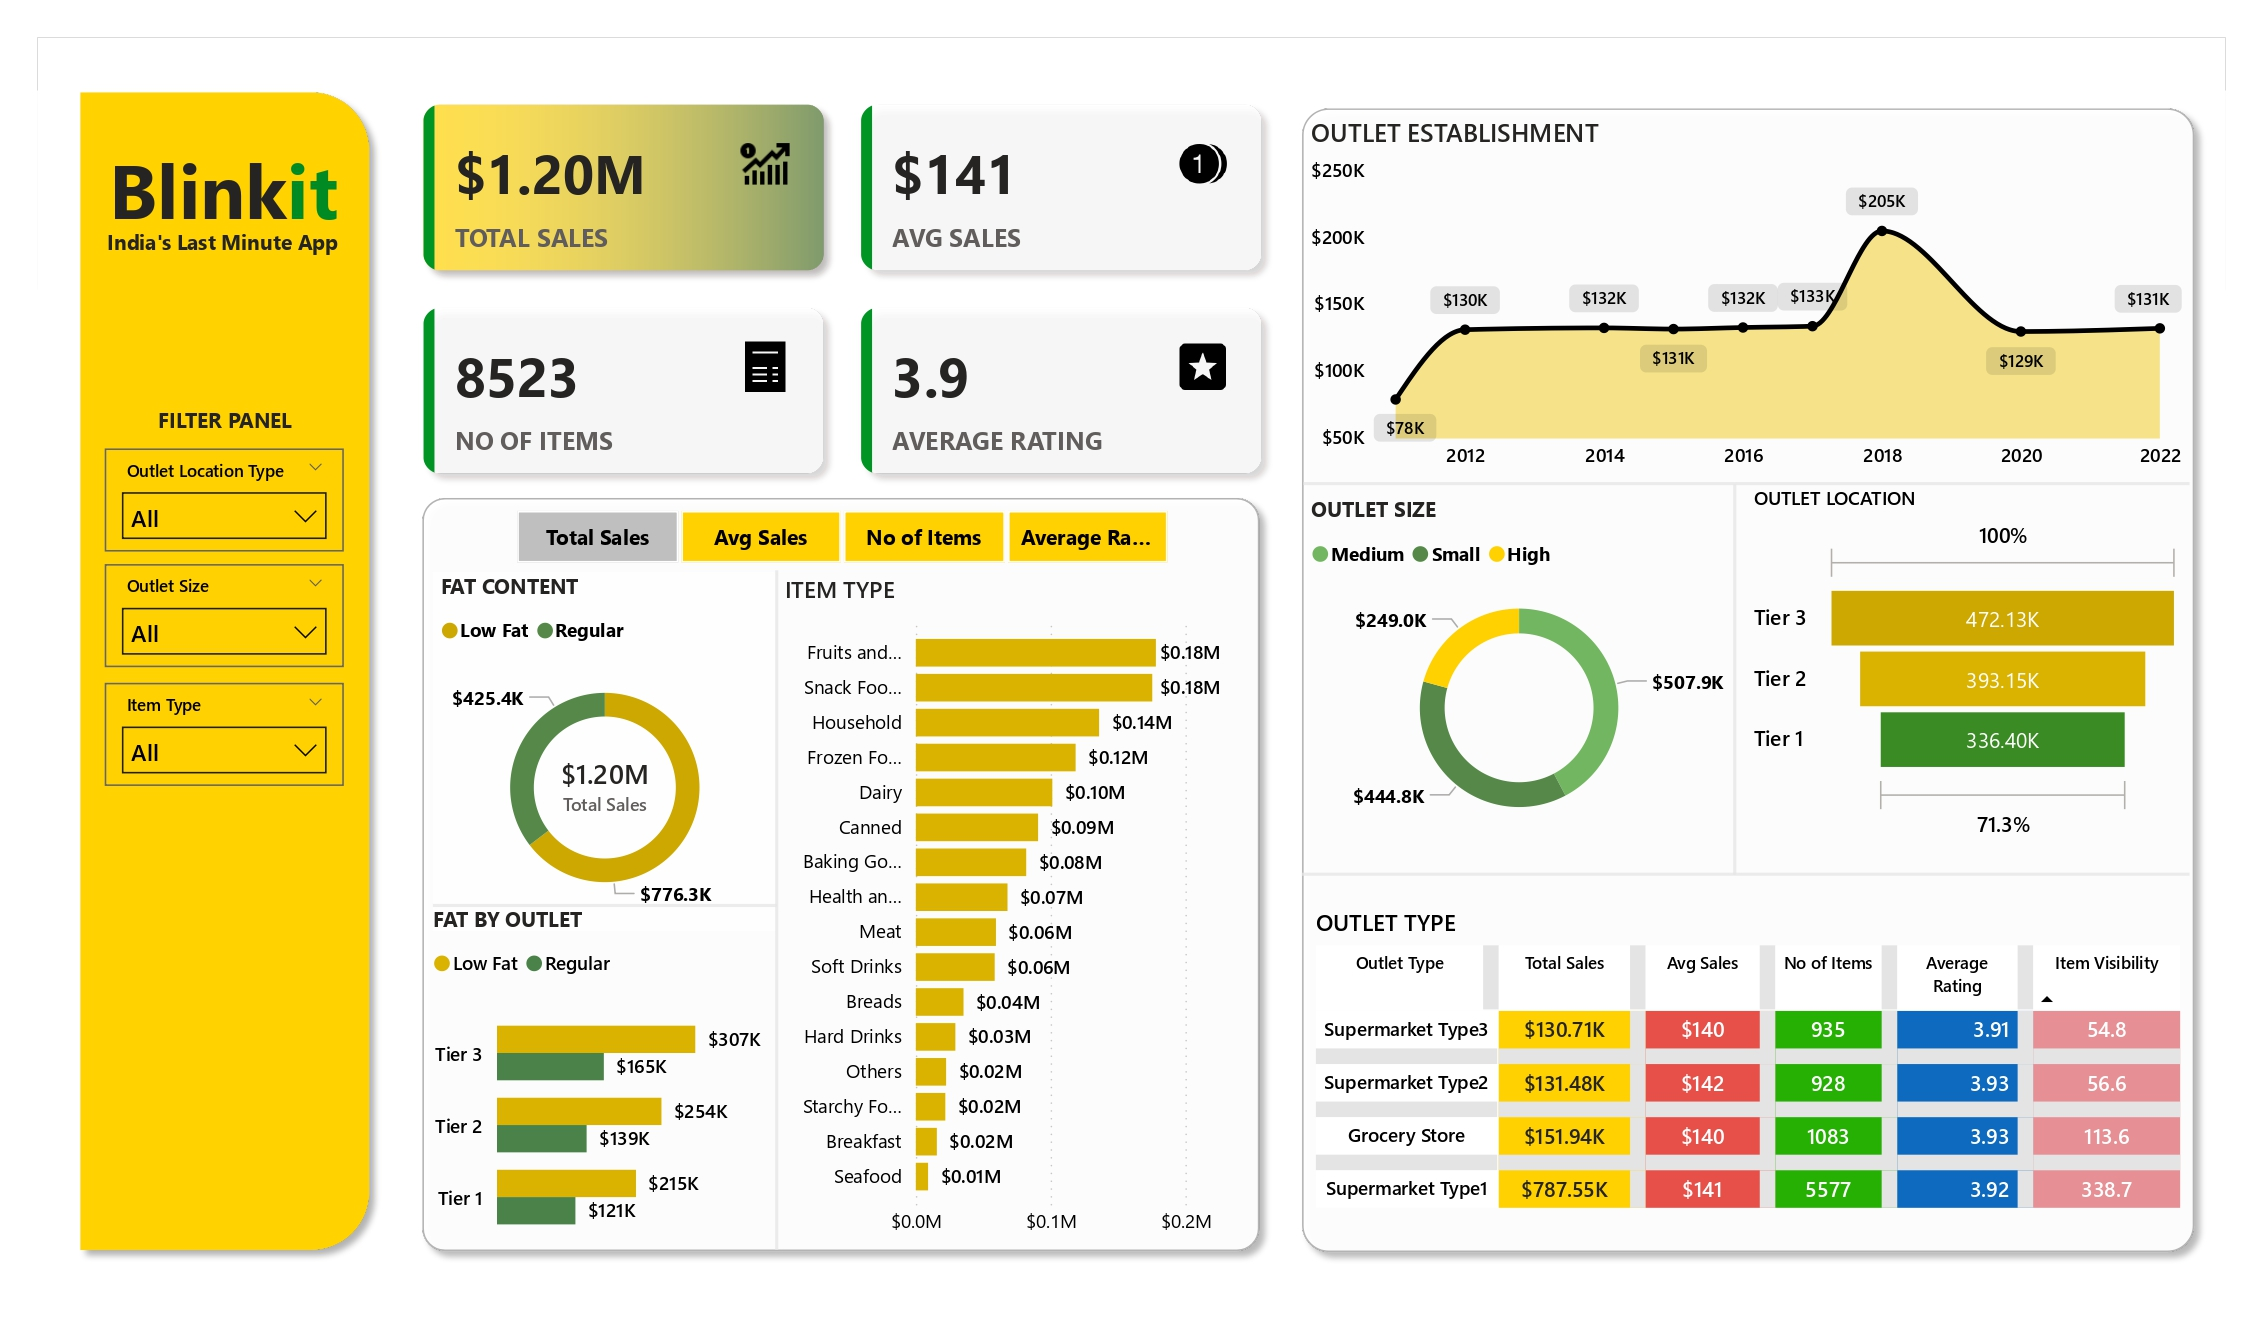

This screenshot's page, from the dashboard's own definition file:
{"tool":"powerbi","page":{"name":"Page 1","canvas":[1400,800],"ordinal":0},"visuals":[{"type":"shape","box":[18,25.6,203.1,759.6],"z":0},{"type":"textbox","box":[28.5,58.5,180.1,85.5],"z":1000},{"type":"textbox","box":[36,117.1,165.1,87.1],"z":2000},{"type":"cardVisual","fields":{"Data":["BlinkIT Grocery Data.Total Sales","BlinkIT Grocery Data.Avg Sales","BlinkIT Grocery Data.No of Items","BlinkIT Grocery Data.Average Rating"]},"box":[229.6,25.5,570.3,270.2],"z":3000},{"type":"shape","box":[237.1,285.7,554.3,500],"z":4000},{"type":"donutChart","title":"FAT CONTENT","fields":{"Y":["BlinkIT Grocery Data.Total Sales"],"Category":["BlinkIT Grocery Data.Item Fat Content"]},"box":[253.3,341.7,220,230],"z":5000},{"type":"slicer","fields":{"Values":["Metrics.Metrics"]},"box":[281.4,295.7,465.7,47.1],"z":6000},{"type":"cardVisual","fields":{"Data":["BlinkIT Grocery Data.Total Sales"]},"box":[244.3,380,238.6,196.4],"z":7000},{"type":"clusteredBarChart","title":"FAT BY OUTLET","fields":{"Y":["BlinkIT Grocery Data.Total Sales"],"Category":["BlinkIT Grocery Data.Outlet Location Type"],"Series":["BlinkIT Grocery Data.Item Fat Content"]},"box":[248.3,555,230,230],"z":8000},{"type":"shape","box":[252.9,530,220,51.4],"z":9000},{"type":"shape","box":[362.9,341.4,220,434.3],"z":10000},{"type":"barChart","title":"ITEM TYPE","fields":{"Y":["BlinkIT Grocery Data.Total Sales"],"Category":["BlinkIT Grocery Data.Item Type"]},"box":[472.9,342.9,305.7,432.9],"z":11000},{"type":"shape","box":[800,35.7,588.6,750],"z":12000},{"type":"lineChart","title":"OUTLET ESTABLISHMENT","fields":{"Y":["BlinkIT Grocery Data.Total Sales"],"Category":["BlinkIT Grocery Data.Outlet Establishment Year"]},"box":[810,50,567.1,235.7],"z":13000},{"type":"shape","box":[810,260,567.1,51.4],"z":14000},{"type":"donutChart","title":"OUTLET SIZE","fields":{"Y":["BlinkIT Grocery Data.Total Sales"],"Category":["BlinkIT Grocery Data.Outlet Size"]},"box":[810,292.9,275.7,225.7],"z":15000},{"type":"shape","box":[995.7,285.7,180,250],"z":16000},{"type":"funnel","title":"OUTLET LOCATION","fields":{"Y":["Sum(BlinkIT Grocery Data.Sales)"],"Category":["BlinkIT Grocery Data.Outlet Location Type"]},"box":[1092.9,285.7,284.3,232.9],"z":17000},{"type":"shape","box":[808.6,510,568.6,51.4],"z":18000},{"type":"pivotTable","title":"OUTLET TYPE","fields":{"Rows":["BlinkIT Grocery Data.Outlet Type"],"Values":["BlinkIT Grocery Data.Total Sales","BlinkIT Grocery Data.Avg Sales","BlinkIT Grocery Data.No of Items","BlinkIT Grocery Data.Average Rating","Sum(BlinkIT Grocery Data.Item Visibility)"]},"box":[812.9,555.7,564.3,205.7],"z":19000},{"type":"slicer","fields":{"Values":["BlinkIT Grocery Data.Outlet Location Type"]},"box":[42.9,262.9,152.9,65.7],"z":20000},{"type":"slicer","fields":{"Values":["BlinkIT Grocery Data.Outlet Size"]},"box":[42.9,337.1,152.9,65.7],"z":21000},{"type":"slicer","fields":{"Values":["BlinkIT Grocery Data.Item Type"]},"box":[42.9,412.9,152.9,65.7],"z":22000},{"type":"textbox","box":[28.6,231.4,182.9,31.4],"z":23000}]}

Visuals, with their boxes in screenshot pixels (x1, y1, x2, y2):
shape: bbox(66, 78, 383, 1264)
textbox: bbox(82, 129, 364, 262)
textbox: bbox(94, 220, 352, 357)
cardVisual - BlinkIT Grocery Data.Total Sales x BlinkIT Grocery Data.Avg Sales: bbox(396, 77, 1288, 500)
shape: bbox(408, 484, 1274, 1265)
"FAT CONTENT" donutChart: bbox(433, 571, 777, 931)
slicer - Metrics.Metrics: bbox(477, 500, 1205, 573)
cardVisual - BlinkIT Grocery Data.Total Sales: bbox(419, 631, 792, 938)
"FAT BY OUTLET" clusteredBarChart: bbox(426, 905, 785, 1264)
shape: bbox(433, 866, 777, 946)
shape: bbox(605, 571, 948, 1250)
"ITEM TYPE" barChart: bbox(777, 573, 1254, 1250)
shape: bbox(1288, 93, 2208, 1265)
"OUTLET ESTABLISHMENT" lineChart: bbox(1303, 116, 2190, 484)
shape: bbox(1303, 444, 2190, 524)
"OUTLET SIZE" donutChart: bbox(1303, 495, 1734, 848)
shape: bbox(1594, 484, 1875, 875)
"OUTLET LOCATION" funnel: bbox(1746, 484, 2190, 848)
shape: bbox(1301, 834, 2190, 915)
"OUTLET TYPE" pivotTable: bbox(1308, 906, 2190, 1227)
slicer - BlinkIT Grocery Data.Outlet Location Type: bbox(105, 448, 344, 551)
slicer - BlinkIT Grocery Data.Outlet Size: bbox(105, 564, 344, 667)
slicer - BlinkIT Grocery Data.Item Type: bbox(105, 683, 344, 785)
textbox: bbox(82, 399, 368, 448)
